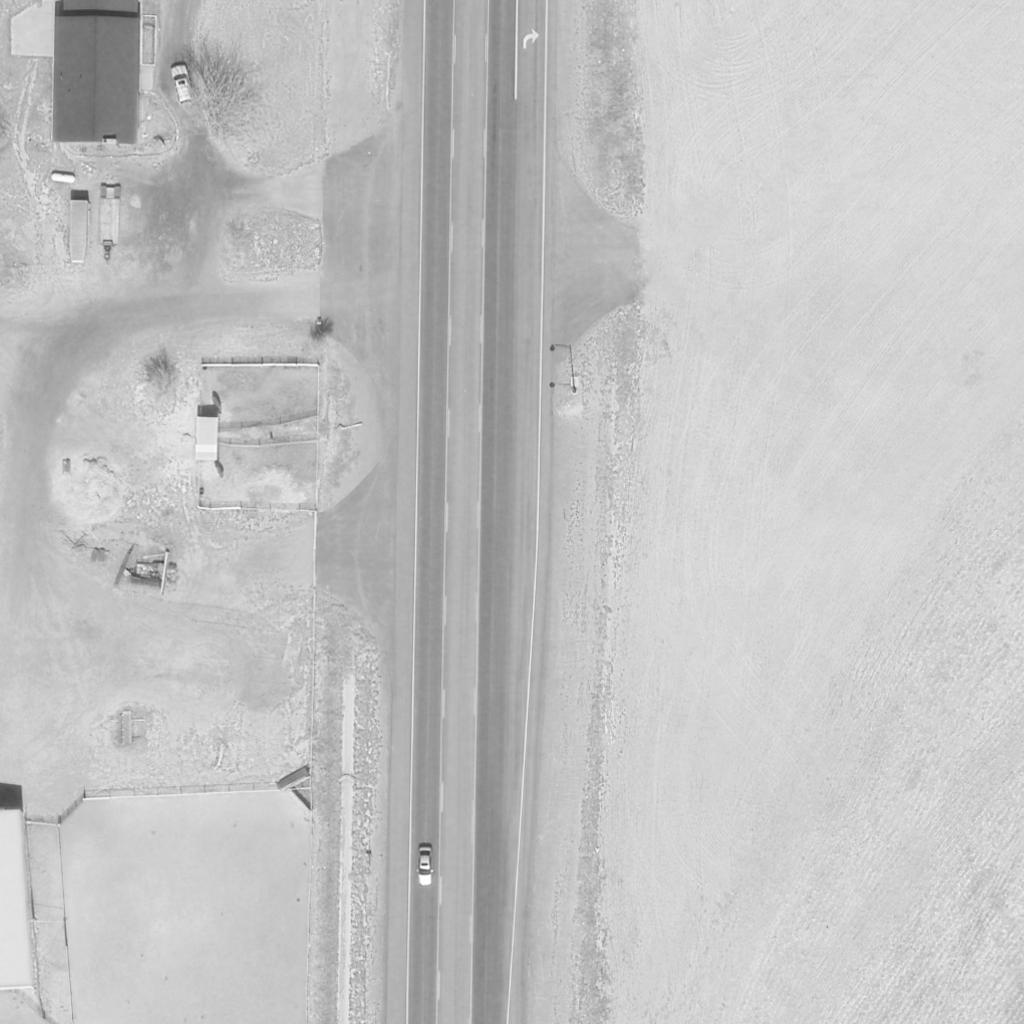vehicle: (171, 64, 195, 106), (418, 842, 434, 886)
